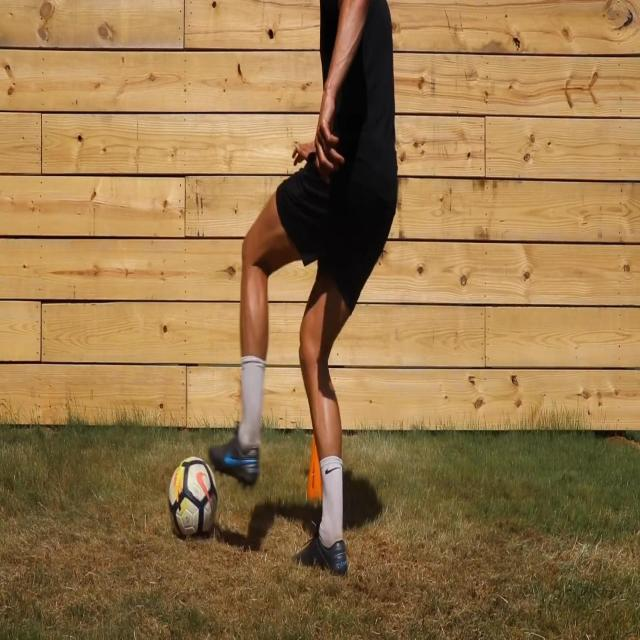Soccer Ball: (167, 454, 218, 544)
